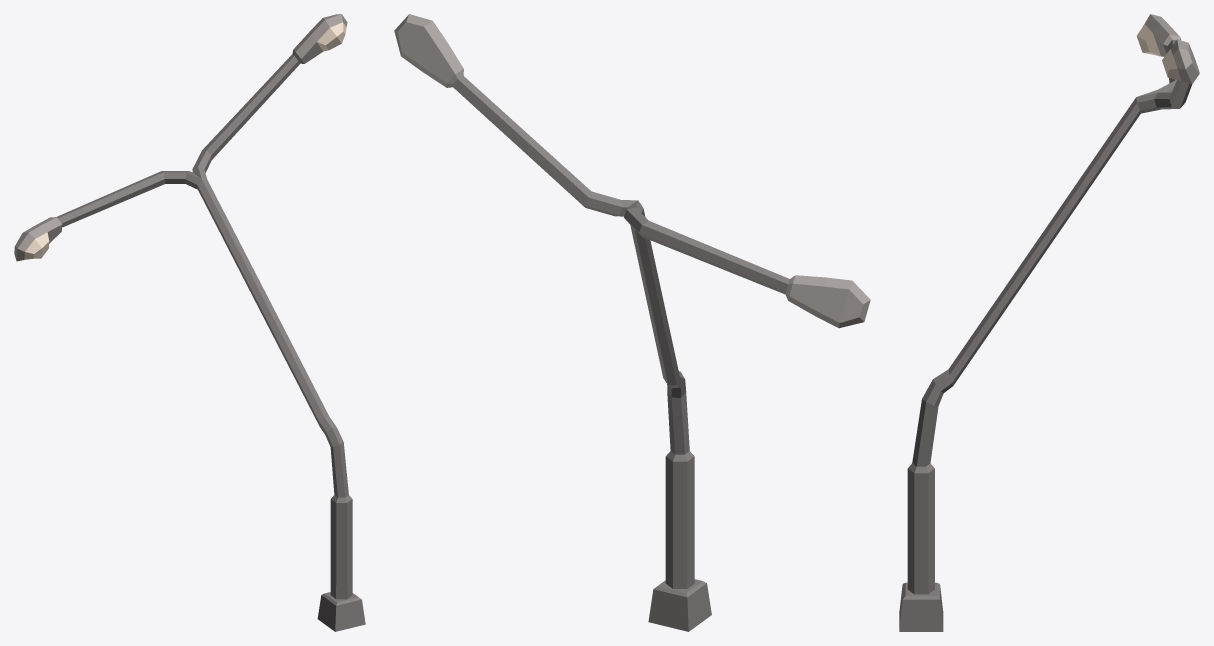
Rendered from apocalypse-lamp-road-double-apocalypse-b.glb.
3 renders of one model, left to right at view 1: azimuth 30°, elevation 25°; view 2: azimuth 150°, elevation 25°; view 3: azimuth 270°, elevation 25°, orthographic. The views are drawn at different scales.
Parts seen in each view (by area): view 1: lamp-road-double-apocalypse-b; view 2: lamp-road-double-apocalypse-b; view 3: lamp-road-double-apocalypse-b.
Boxes of the visible parts, x1=… form: lamp-road-double-apocalypse-b: x1=14, y1=14, x2=365, y2=631; lamp-road-double-apocalypse-b: x1=394, y1=14, x2=870, y2=631; lamp-road-double-apocalypse-b: x1=899, y1=14, x2=1199, y2=631.
Bounding box in the file's own units: 6.23 × 8.75 × 3.74.
